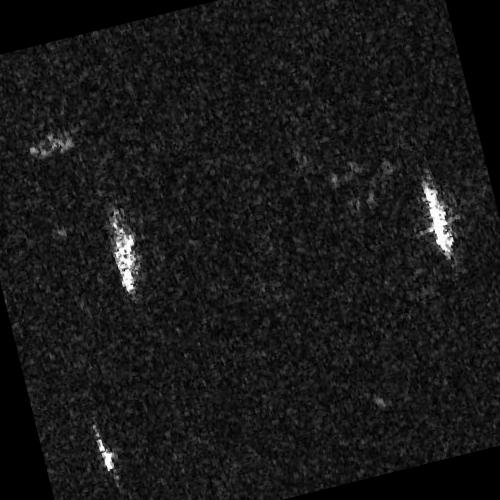ship: (421, 185, 455, 256), (109, 220, 136, 294), (92, 426, 115, 472)
